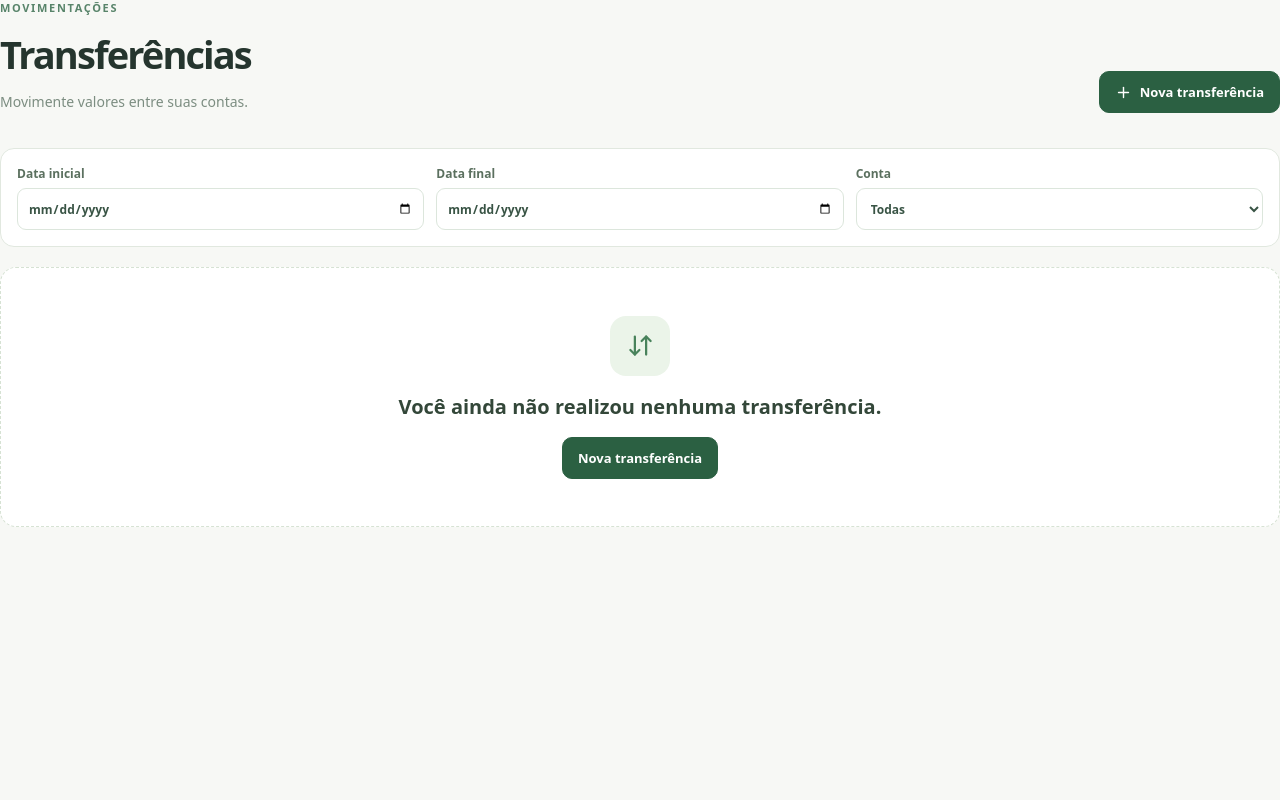
Test: 7: origem obrigatória
Click the button "Nova transferência" in the row of "Transferências" at (1189, 92), box [1099,71,1279,113]
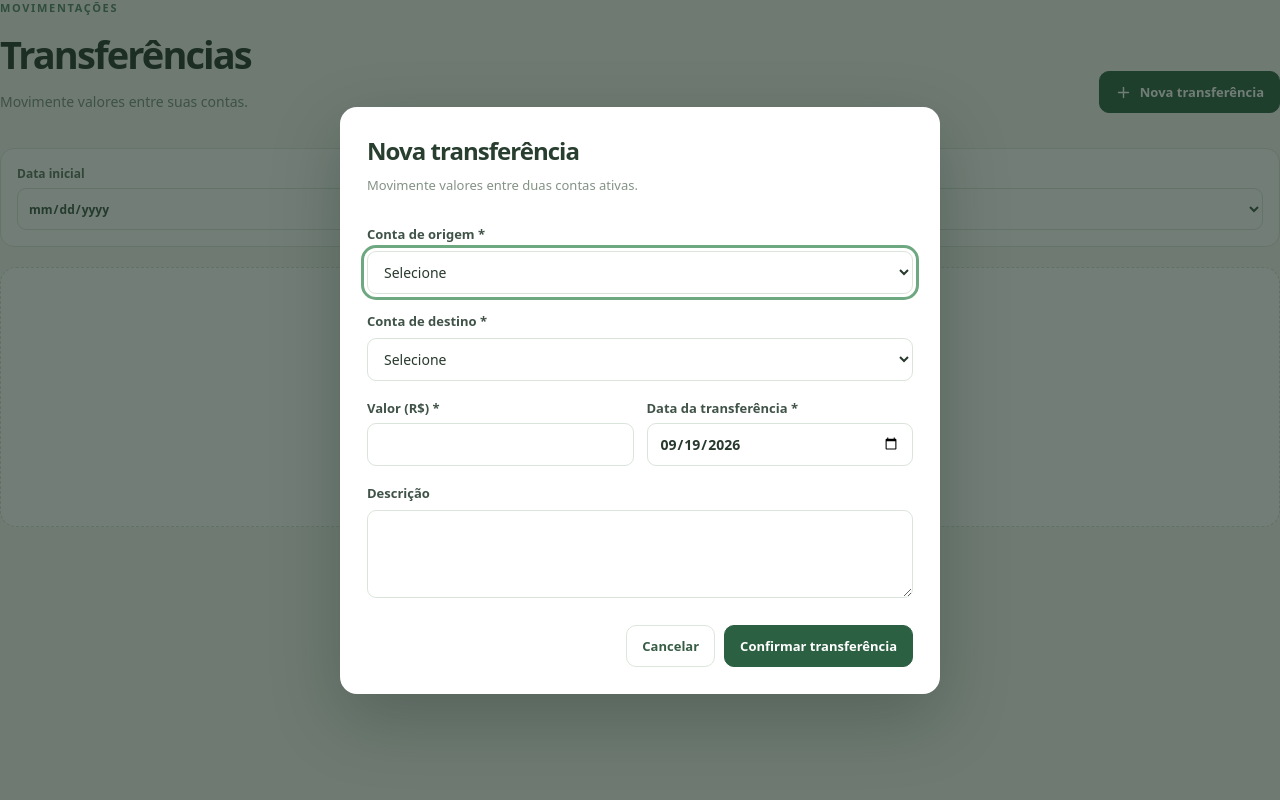
Click the button "Confirmar transferência" at (819, 646), box [724,624,913,666]
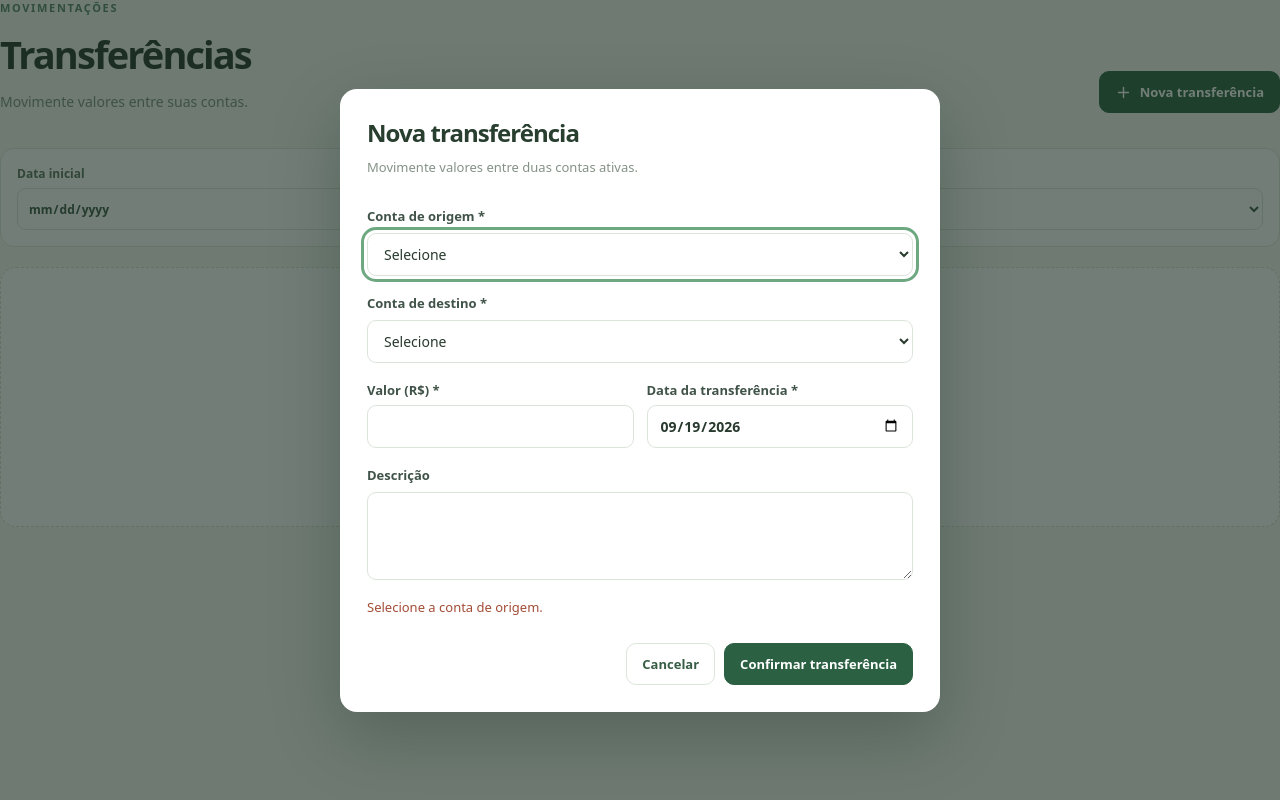
expect the message shows "origem": met, box [367,598,543,616]
